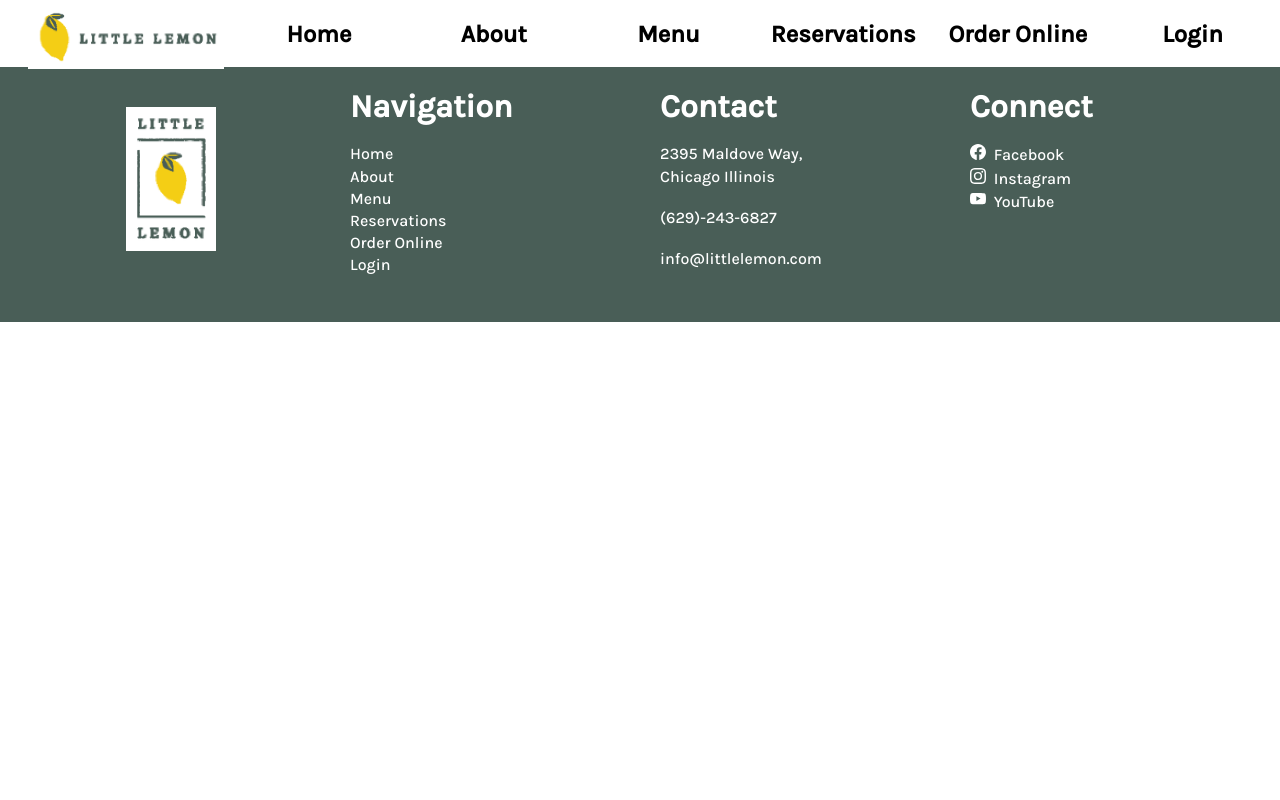
it: render Order Online page
Click the 1st link "Order Online". click: (1018,34)
box: [948,20,1087,48]
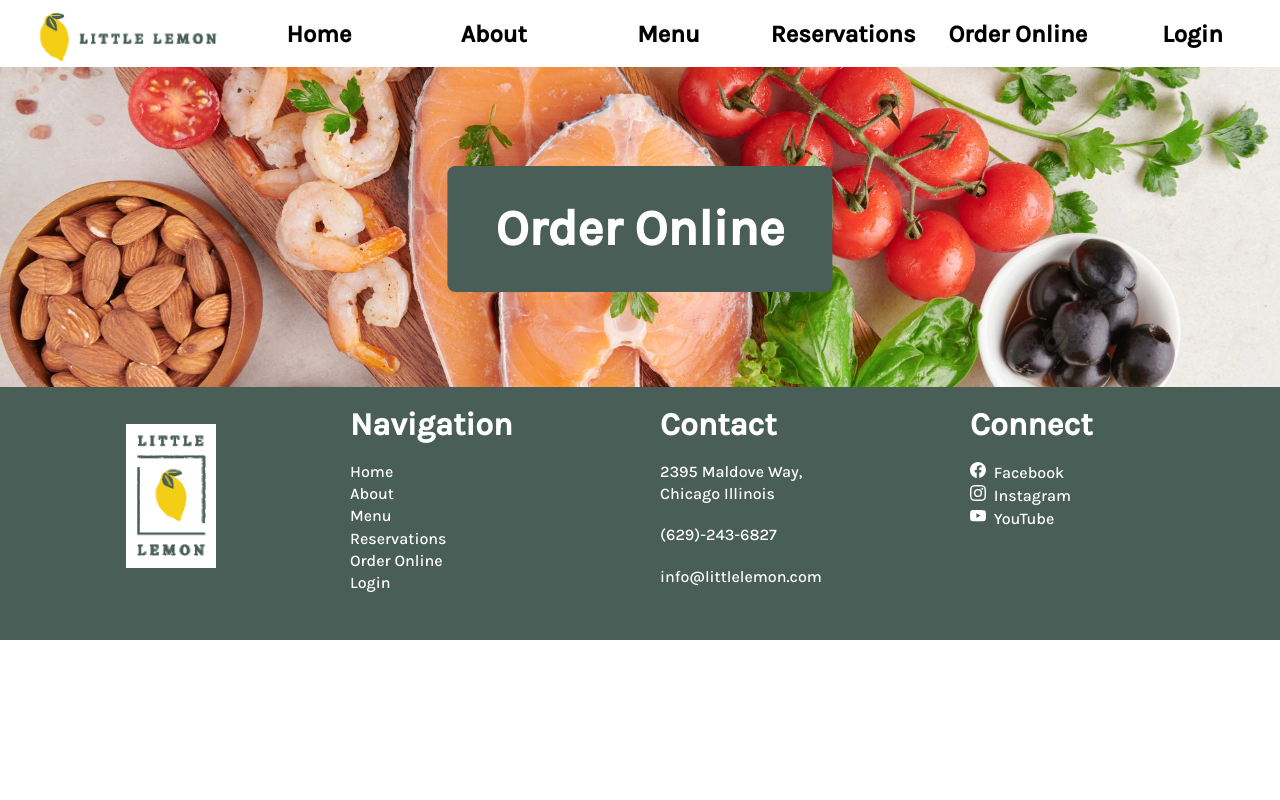
Now the 2nd heading "Order Online" is shown, box [495,199,785,258]
